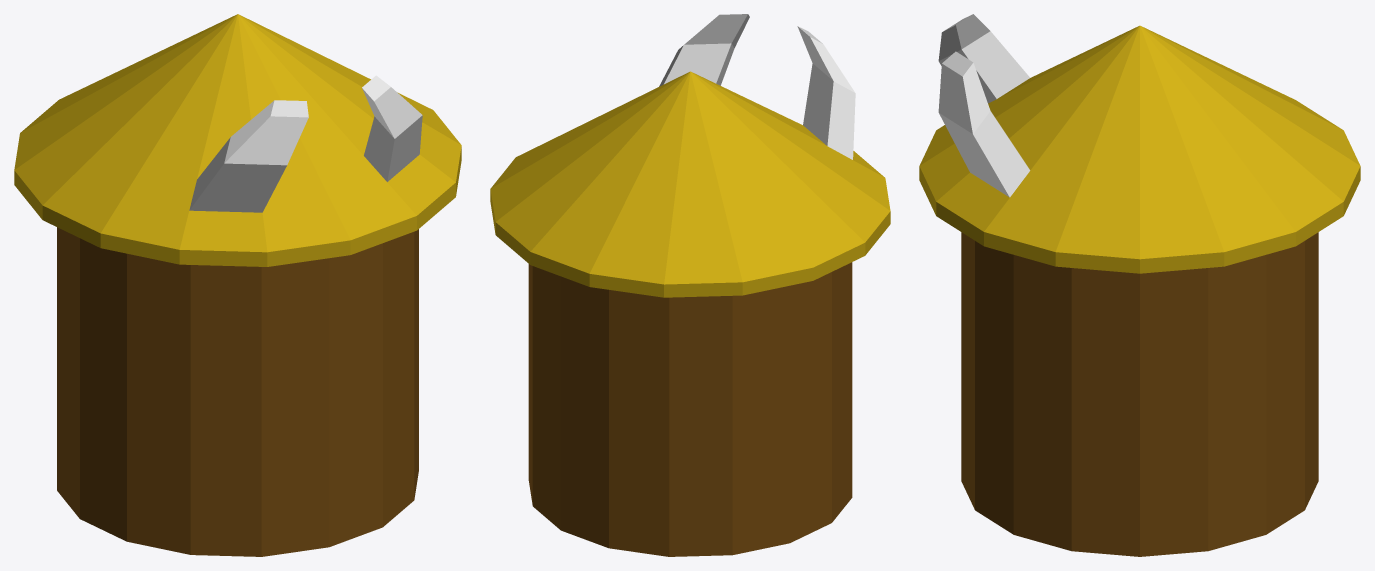
The model's file is chieftain_hut.glb.
3 views of the same model, side by side, from view 1: azimuth 30°, elevation 25°; view 2: azimuth 150°, elevation 25°; view 3: azimuth 270°, elevation 25° (orthographic). The views are drawn at different scales.
Parts seen in each view (by area): view 1: ChieftainHut; view 2: ChieftainHut; view 3: ChieftainHut.
Part boxes in pixels (bbox=[...]): ChieftainHut: bbox=[14, 14, 461, 556]; ChieftainHut: bbox=[490, 14, 890, 556]; ChieftainHut: bbox=[919, 14, 1360, 556].
Bounding box in the file's own units: 0.9886 × 1.13 × 0.9886.
